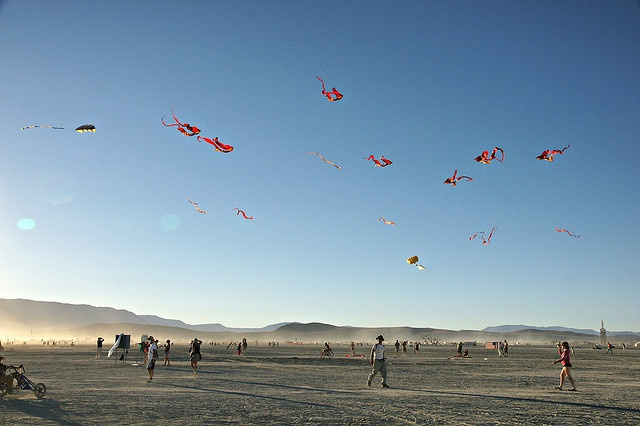non-vehicle: (0, 365, 49, 398), (319, 348, 333, 358)
